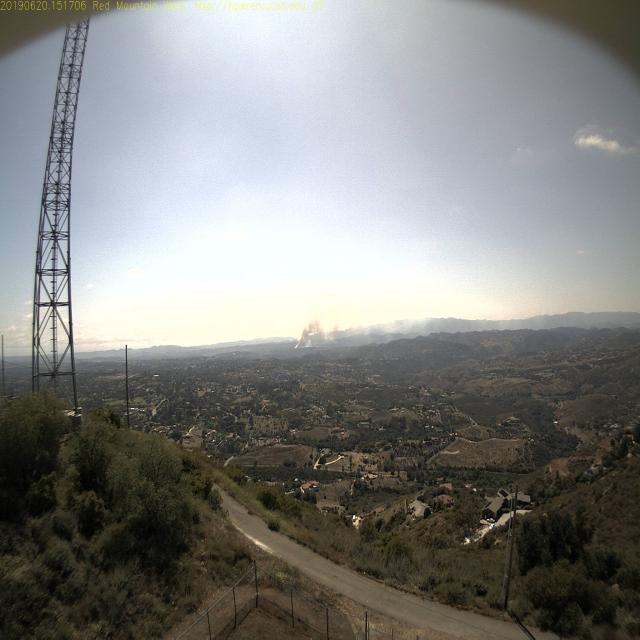smoke: (293, 324, 314, 362)
